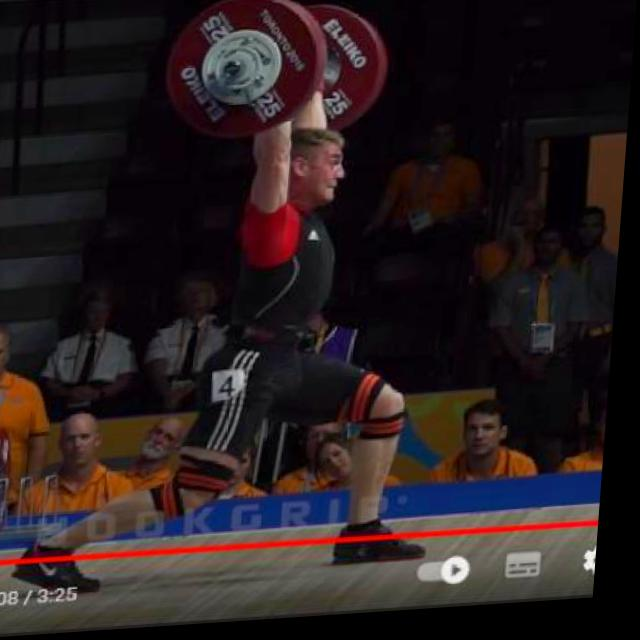barbell: (161, 1, 330, 149)
